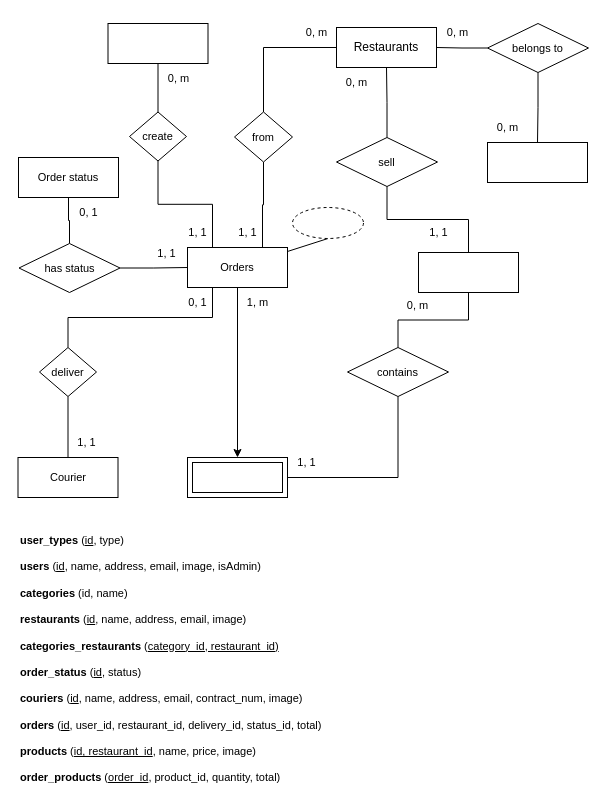
This 606x802 diagram has some shape labels left out. Here are the shapes that lost their labels. From the top down, the centre of each, then its label:
point 157,43: Users
point 537,162: Categories
point 328,222: Total
point 468,272: Products
point 237,477: Order items
